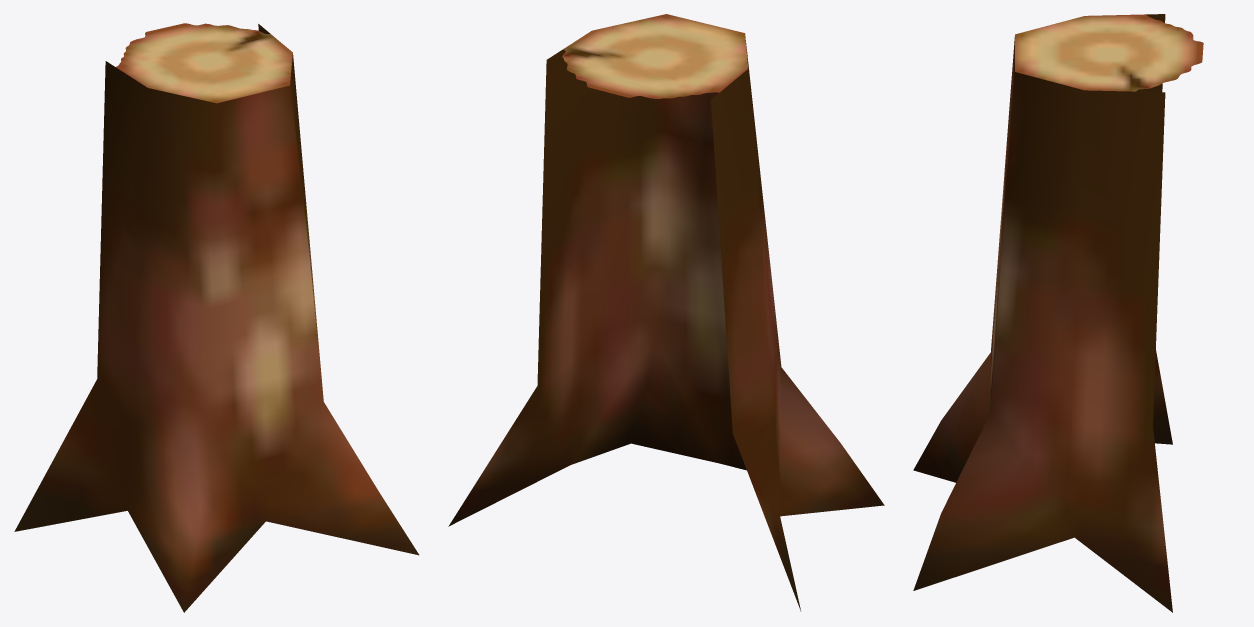
Rendered from fg_treeB_1_b.dae.
3 views of the same model, side by side, from view 1: azimuth 30°, elevation 25°; view 2: azimuth 150°, elevation 25°; view 3: azimuth 270°, elevation 25° (orthographic). The views are drawn at different scales.
Visible parts, largest first — view 1: vsn_mesh_0_; view 2: vsn_mesh_0_; view 3: vsn_mesh_0_.
Part boxes in pixels (box(x1,y1,x2,y2)): vsn_mesh_0_: box(14, 23, 418, 612); vsn_mesh_0_: box(448, 14, 884, 611); vsn_mesh_0_: box(913, 14, 1203, 612).
Size of the model in its own units: 11.03 by 14.67 by 9.05.
